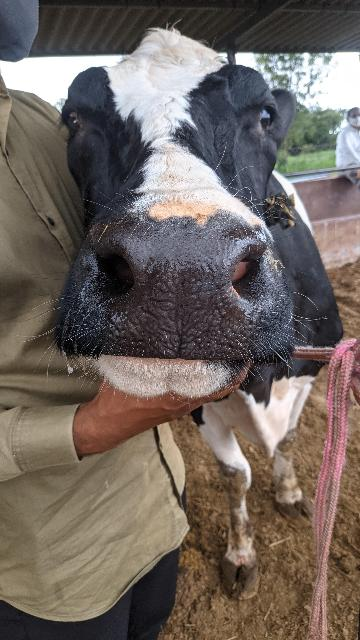Muzzle: (104, 224, 258, 356)
